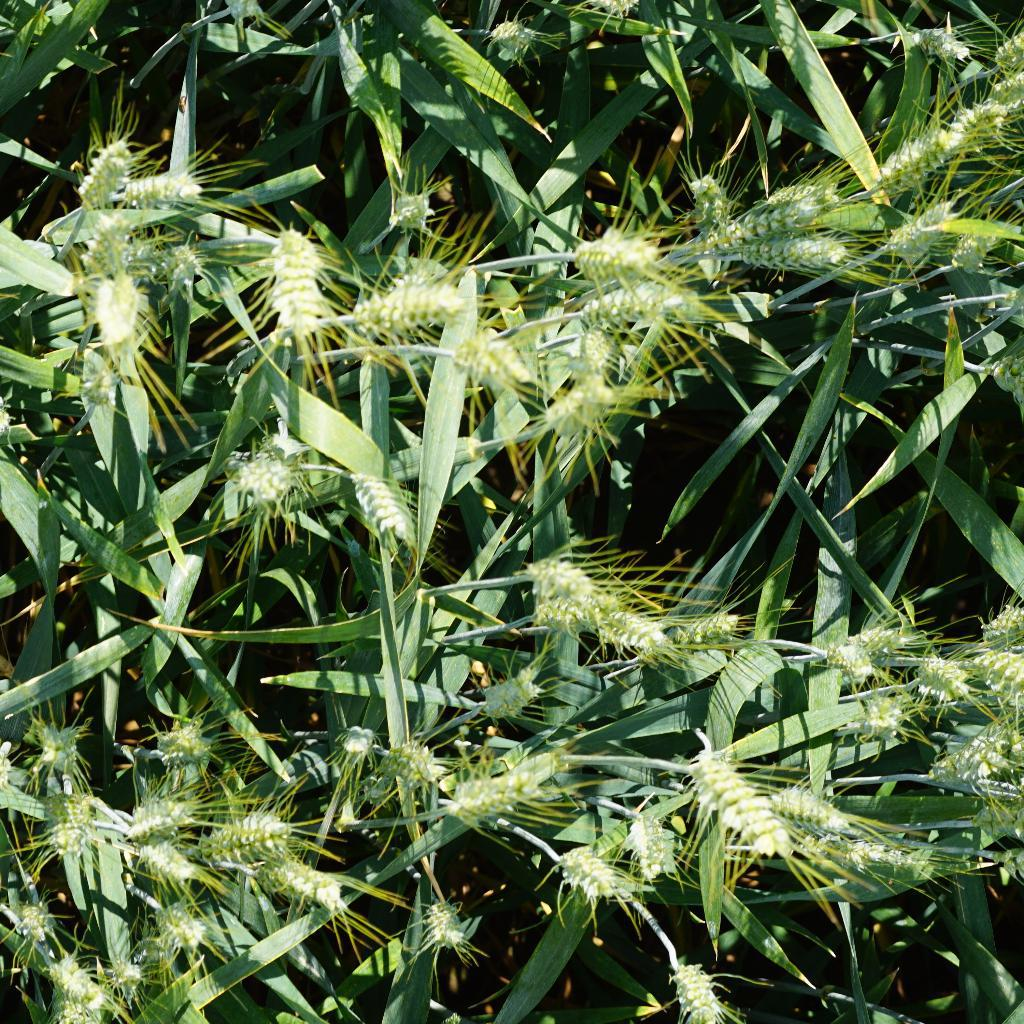0-0: (680, 751, 793, 859), (260, 213, 333, 346), (565, 269, 710, 333), (351, 266, 474, 333), (722, 221, 854, 283), (905, 716, 1013, 791), (333, 466, 423, 555), (441, 331, 557, 399), (445, 744, 539, 825), (793, 824, 912, 882), (537, 369, 624, 448), (546, 822, 624, 907), (557, 224, 668, 283), (765, 776, 862, 843), (729, 175, 830, 238), (34, 945, 114, 1024), (619, 803, 681, 903), (649, 952, 735, 1024), (262, 849, 363, 909), (855, 127, 946, 191), (464, 669, 556, 729), (83, 273, 148, 357), (879, 200, 967, 260), (138, 705, 227, 763), (71, 133, 138, 208), (134, 833, 209, 899), (904, 641, 971, 713), (220, 806, 294, 866), (107, 167, 204, 212), (79, 210, 142, 279), (669, 598, 748, 653), (821, 622, 929, 661), (955, 639, 1024, 700), (36, 785, 101, 849), (234, 444, 303, 504), (529, 546, 604, 601), (129, 792, 208, 844), (417, 892, 479, 955), (32, 709, 92, 774), (595, 600, 666, 654), (523, 587, 598, 636), (686, 167, 733, 245), (152, 901, 217, 956), (948, 94, 1008, 153), (377, 722, 430, 787), (848, 684, 912, 737), (900, 20, 972, 65), (948, 220, 1009, 273), (976, 32, 1024, 97), (963, 594, 1024, 644), (377, 186, 444, 231), (484, 11, 540, 63), (74, 352, 119, 415), (813, 639, 880, 681), (160, 236, 208, 287), (557, 320, 610, 366), (10, 899, 55, 949), (129, 932, 175, 977), (103, 954, 145, 993), (337, 722, 375, 757)
